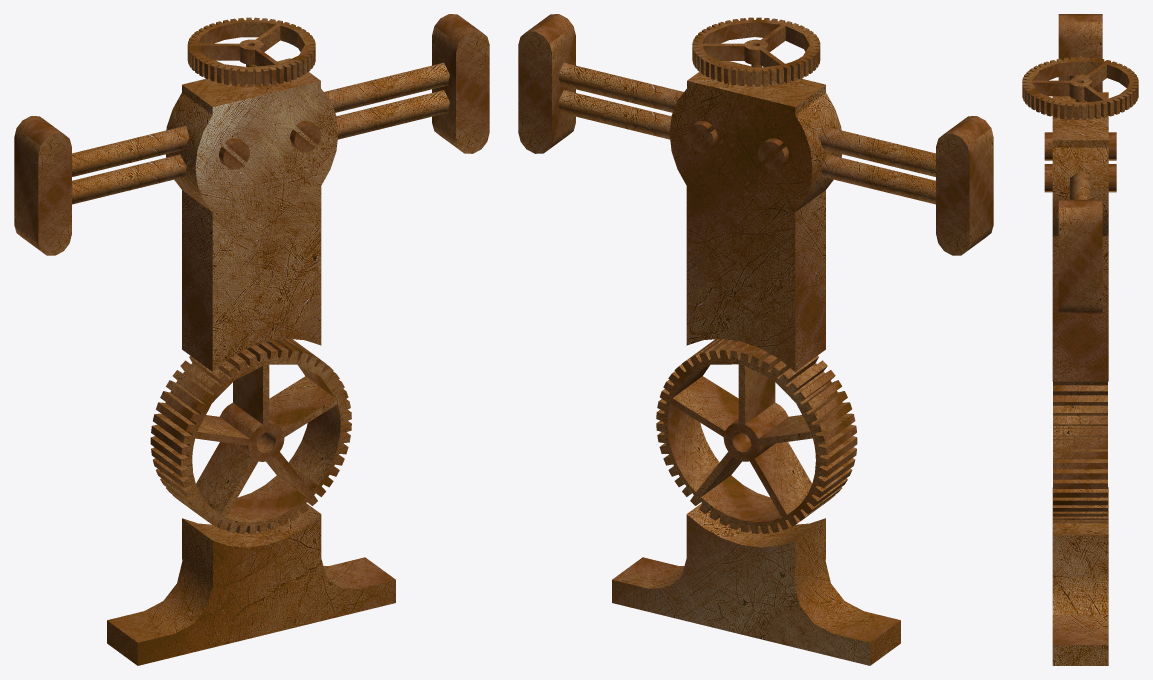
3 views of the same model, side by side, from view 1: azimuth 30°, elevation 25°; view 2: azimuth 150°, elevation 25°; view 3: azimuth 270°, elevation 25° (orthographic). The views are drawn at different scales.
Visible parts, largest first — view 1: R_Elements_028, Cogwheel_220, R_Elements_019, R_Elements_020, Cogwheel_219, R_Elements_017, Tube_351, Tube_358; view 2: R_Elements_028, Cogwheel_220, R_Elements_019, R_Elements_020, Cogwheel_219, R_Elements_017, Tube_351, Tube_358; view 3: R_Elements_028, R_Elements_019, Cogwheel_220, Cogwheel_219, R_Elements_017, R_Elements_020, Tube_351, Screw_798, Screw_799.
Part boxes in pixels (box(x1,y1,x2,y2)): R_Elements_028: box(165, 58, 338, 371); Cogwheel_220: box(150, 338, 351, 533); R_Elements_019: box(107, 503, 395, 665); R_Elements_020: box(14, 116, 71, 255); Cogwheel_219: box(187, 17, 315, 86); R_Elements_017: box(432, 14, 489, 153); Tube_351: box(72, 62, 449, 176); Tube_358: box(72, 90, 449, 204); R_Elements_028: box(669, 61, 842, 371); Cogwheel_220: box(656, 338, 857, 533); R_Elements_019: box(612, 503, 900, 665); R_Elements_020: box(936, 116, 993, 255); Cogwheel_219: box(692, 17, 820, 86); R_Elements_017: box(518, 14, 575, 153); Tube_351: box(558, 62, 935, 176); Tube_358: box(558, 90, 935, 204); R_Elements_028: box(1052, 92, 1108, 381); R_Elements_019: box(1052, 487, 1108, 665); Cogwheel_220: box(1053, 381, 1107, 523); Cogwheel_219: box(1022, 57, 1138, 119); R_Elements_017: box(1058, 199, 1102, 314); R_Elements_020: box(1058, 14, 1102, 92); Tube_351: box(1070, 55, 1091, 199); Screw_798: box(1044, 132, 1116, 160); Screw_799: box(1044, 164, 1116, 192).
Bounding box in the file's own units: 84.63 × 104 × 20.79.
Materials: 1 (1 with a texture image).
